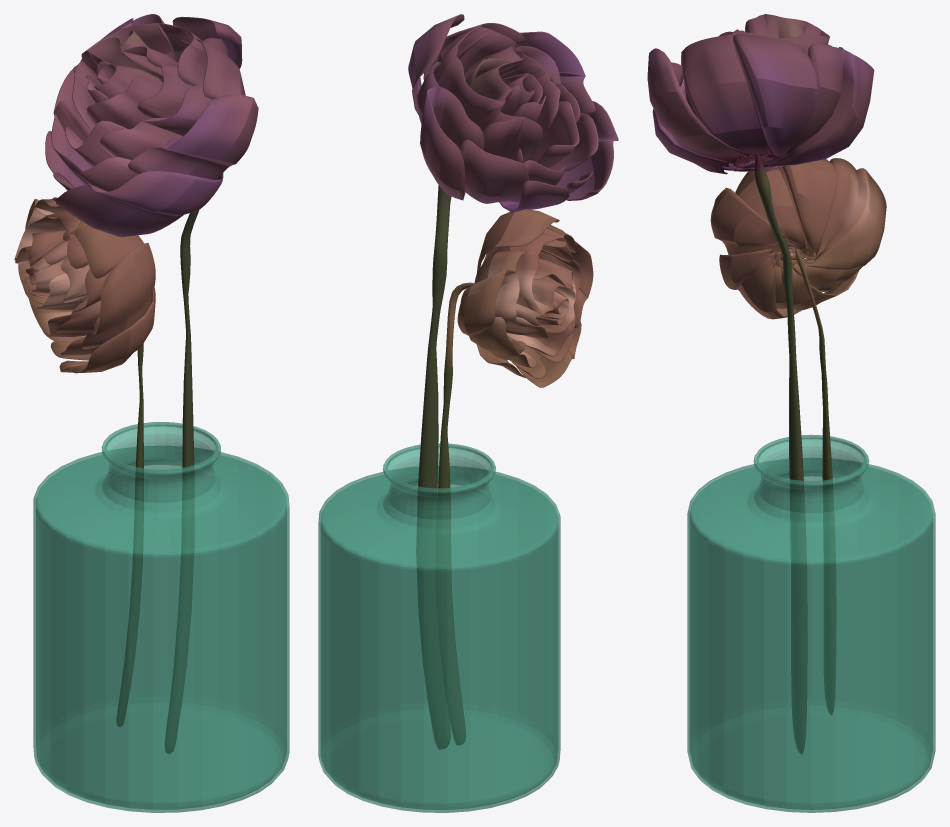
The model's file is firstRoses.04efa047.glb.
3 renders of one model, left to right at view 1: azimuth 30°, elevation 25°; view 2: azimuth 150°, elevation 25°; view 3: azimuth 270°, elevation 25°, orthographic. The views are drawn at different scales.
Parts seen in each view (by area): view 1: FirstRoses; view 2: FirstRoses; view 3: FirstRoses.
Boxes of the visible parts, left/top/right/bottom form: FirstRoses: left=14, top=14, right=289, bottom=812; FirstRoses: left=318, top=14, right=618, bottom=812; FirstRoses: left=647, top=14, right=935, bottom=812.
Size of the model in its own units: 0.2154 by 0.6233 by 0.2205.
